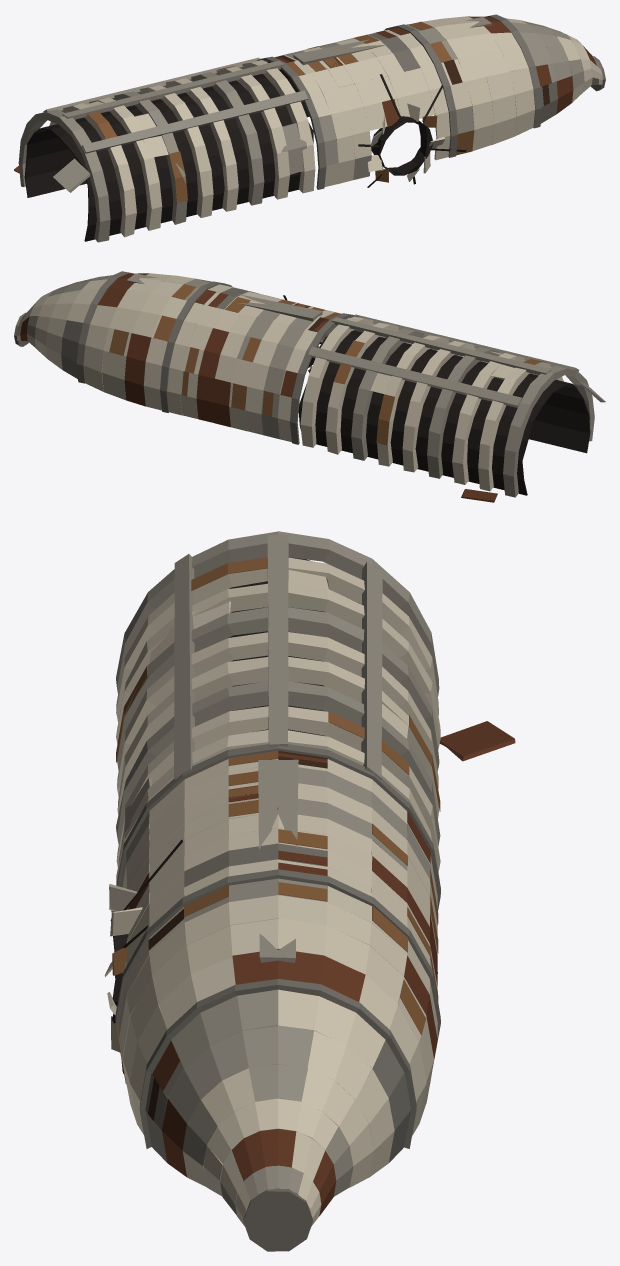
File: ship_bow.glb
3 views of the same model, one above another, from view 1: azimuth 30°, elevation 25°; view 2: azimuth 150°, elevation 25°; view 3: azimuth 270°, elevation 25° (orthographic). The views are drawn at different scales.
Parts seen in each view (by area): view 1: ship_bow; view 2: ship_bow; view 3: ship_bow.
Part boxes in pixels (x1,y1,x2,y2): ship_bow: [14, 14, 605, 242]; ship_bow: [14, 271, 605, 502]; ship_bow: [104, 531, 515, 1251].
Bounding box in the file's own units: 138 × 28.76 × 43.76.
